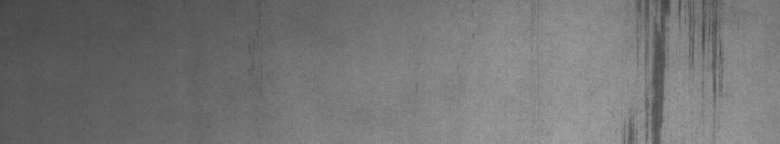ka: (629, 4, 724, 136)
